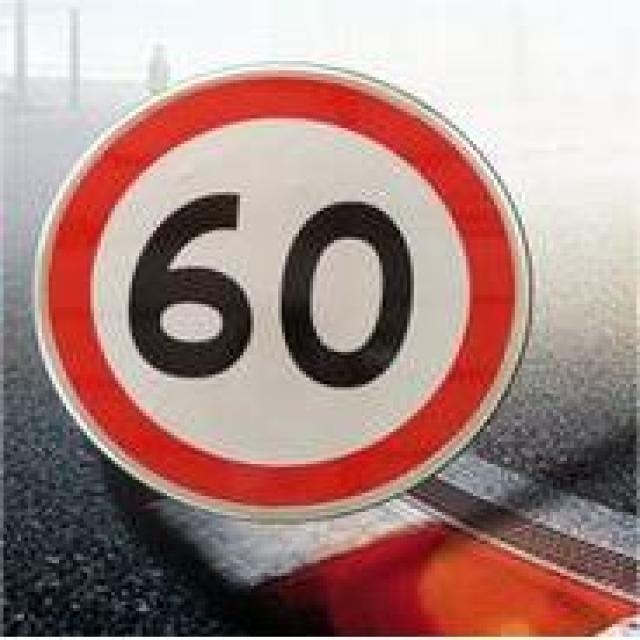speed limit 60: (32, 64, 532, 523)
